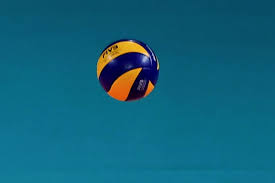ball: (96, 38, 161, 101)
